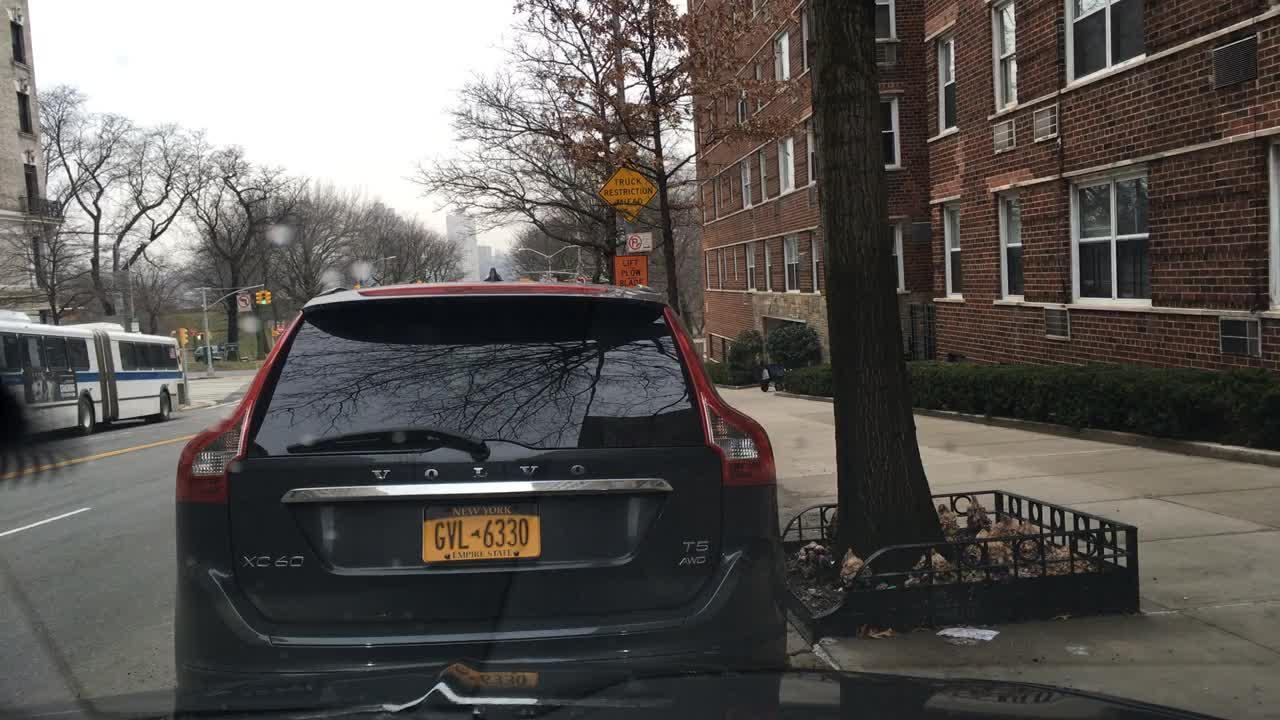volvo: (347, 444, 624, 497)
